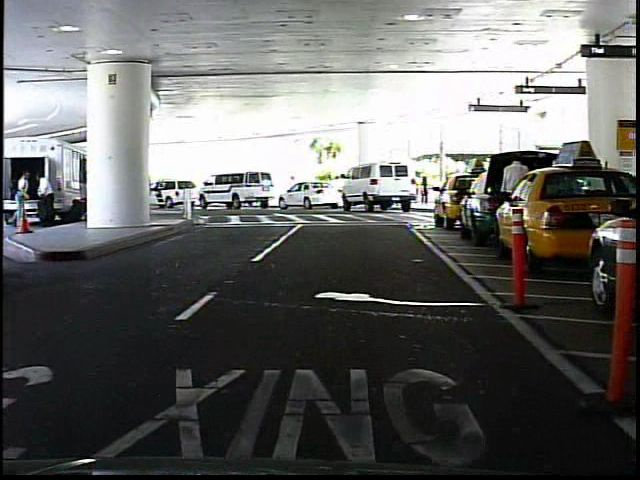person: (497, 150, 533, 247), (419, 175, 434, 207), (285, 172, 300, 204)
